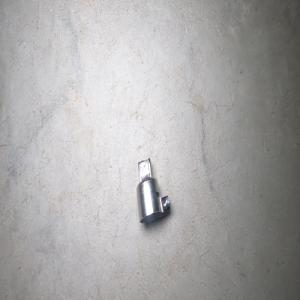MetalPart: (136, 156, 170, 223)
